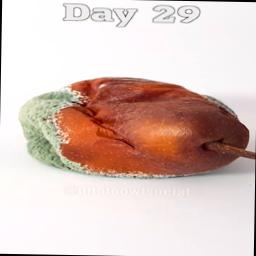Pear Rotten: (15, 72, 256, 183)
